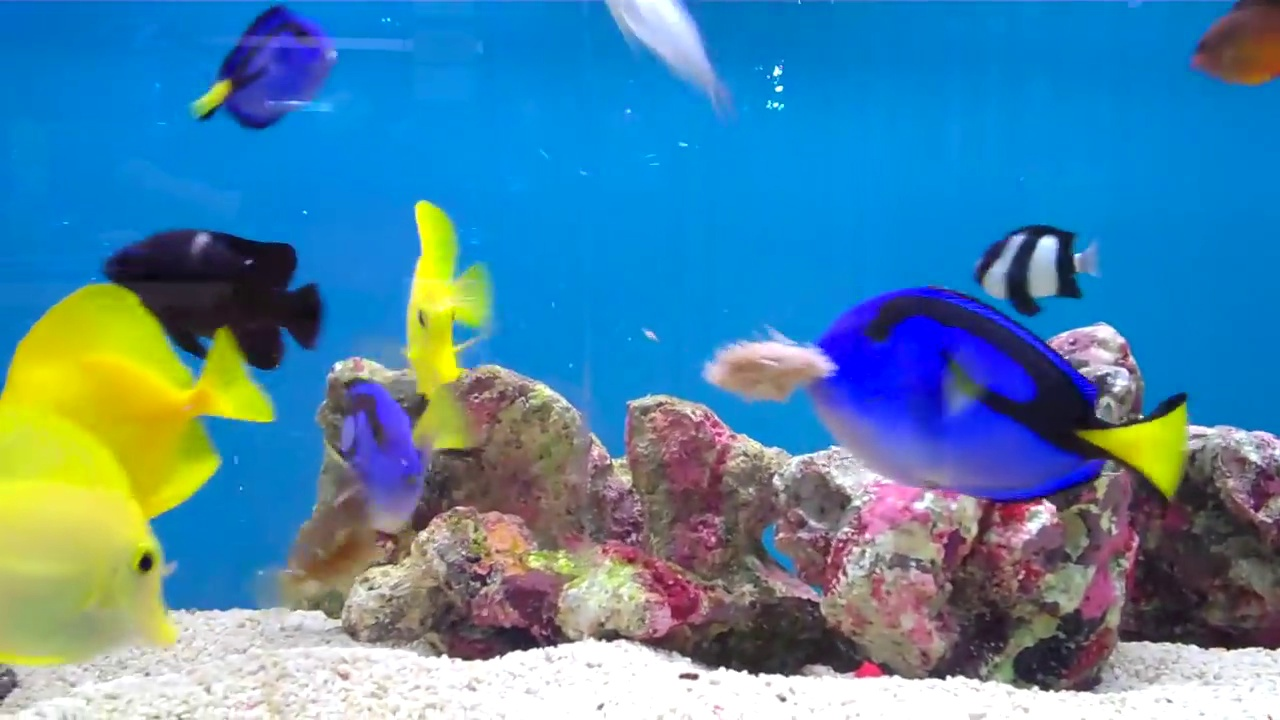blue tang surgeonfish: (770, 224, 1202, 543), (179, 0, 368, 144)
saddle butterfly fish: (0, 286, 276, 515), (0, 406, 179, 675), (390, 184, 503, 463)
